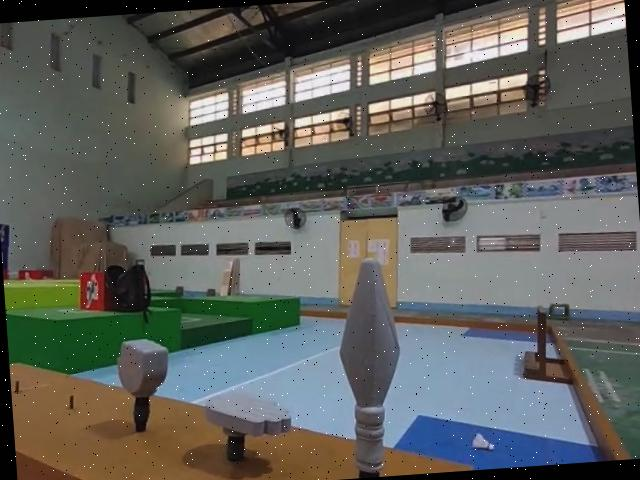Fist: (112, 335, 172, 434)
Hand: (201, 381, 297, 468)
Sph: (327, 255, 413, 479)
